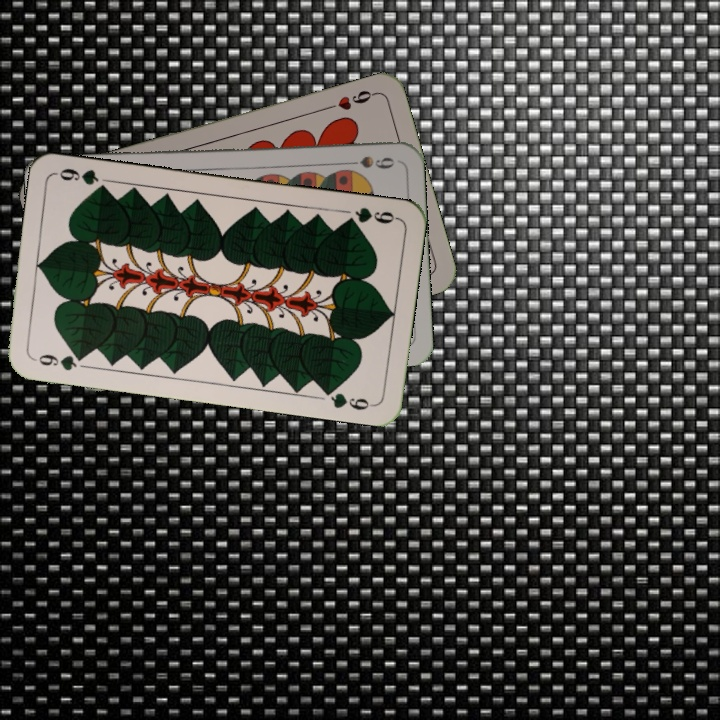G9: (340, 203, 401, 227), (29, 350, 89, 374)
H9: (321, 86, 379, 113)
S9: (339, 152, 397, 172)
